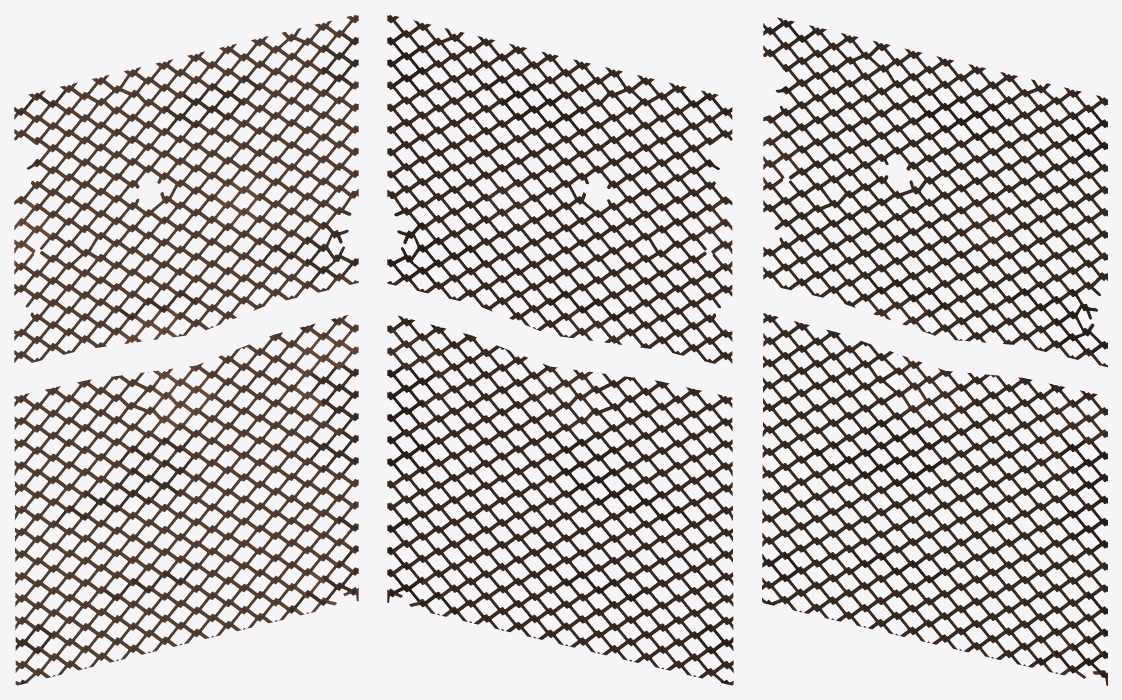
Rendered from SM_Prop_Fence_Gate_02_Chain_02.obj.
3 views of the same model, side by side, from view 1: azimuth 30°, elevation 25°; view 2: azimuth 150°, elevation 25°; view 3: azimuth 330°, elevation 25° (orthographic).
Parts seen in each view (by area): view 1: SM_Prop_Fence_Gate_02_Chain_02_0; view 2: SM_Prop_Fence_Gate_02_Chain_02_0; view 3: SM_Prop_Fence_Gate_02_Chain_02_0.
Part boxes in pixels (x1=…): SM_Prop_Fence_Gate_02_Chain_02_0: x1=14, y1=15, x2=358, y2=685; SM_Prop_Fence_Gate_02_Chain_02_0: x1=387, y1=15, x2=733, y2=685; SM_Prop_Fence_Gate_02_Chain_02_0: x1=762, y1=17, x2=1107, y2=685.
Bounding box in the file's own units: 0.906 × 1.48 × 0.00581.
Materials: 1 (1 with a texture image).
